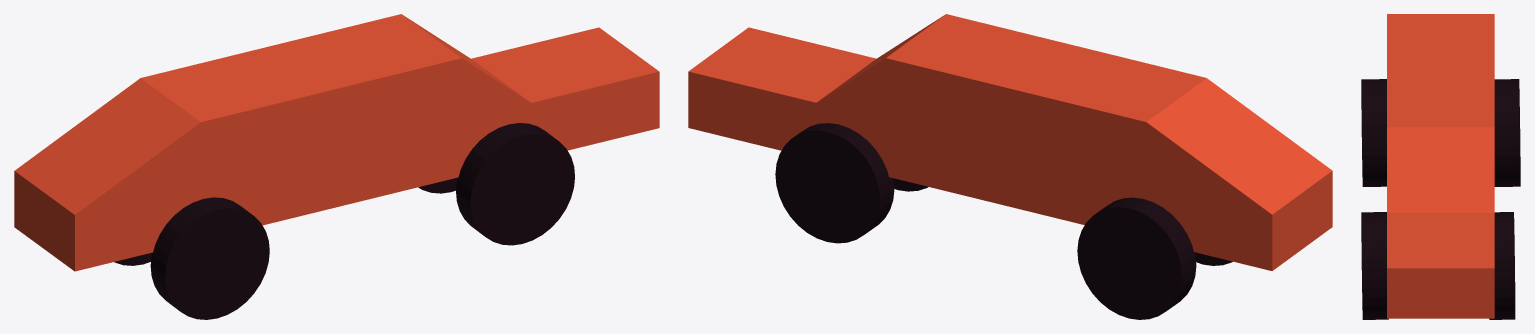
File: carro.fbx
3 views of the same model, side by side, from view 1: azimuth 30°, elevation 25°; view 2: azimuth 150°, elevation 25°; view 3: azimuth 270°, elevation 25° (orthographic). The views are drawn at different scales.
Parts seen in each view (by area): view 1: Carro, Roda Dianteira Direita, Roda Traseira Direita; view 2: Carro, Roda Traseira Esquerda, Roda Dianteira Esquerda; view 3: Carro, Roda Traseira Esquerda, Roda Dianteira Direita, Roda Traseira Direita, Roda Dianteira Esquerda.
Boxes of the visible parts, bbox=[...] form: Carro: bbox=[14, 14, 659, 271]; Roda Dianteira Direita: bbox=[456, 123, 574, 245]; Roda Traseira Direita: bbox=[150, 197, 269, 319]; Carro: bbox=[688, 14, 1332, 270]; Roda Traseira Esquerda: bbox=[1077, 197, 1196, 319]; Roda Dianteira Esquerda: bbox=[775, 123, 894, 243]; Carro: bbox=[1387, 14, 1494, 318]; Roda Traseira Esquerda: bbox=[1494, 79, 1520, 186]; Roda Dianteira Direita: bbox=[1361, 212, 1388, 319]; Roda Traseira Direita: bbox=[1361, 79, 1386, 186]; Roda Dianteira Esquerda: bbox=[1489, 212, 1515, 319].
Bounding box in the file's own units: 1118 × 342 × 296.
